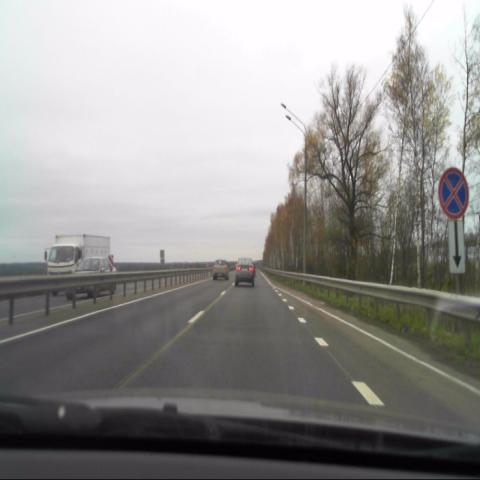8_2_3: (447, 216, 466, 274)
